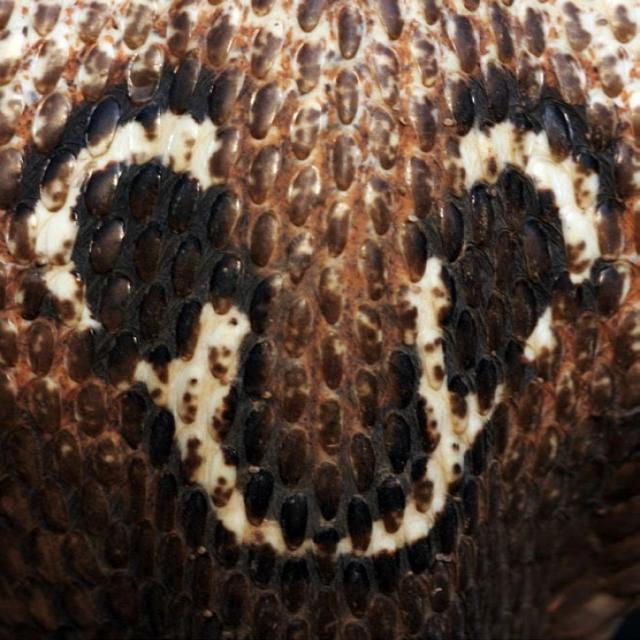Snake: (0, 0, 629, 635)
